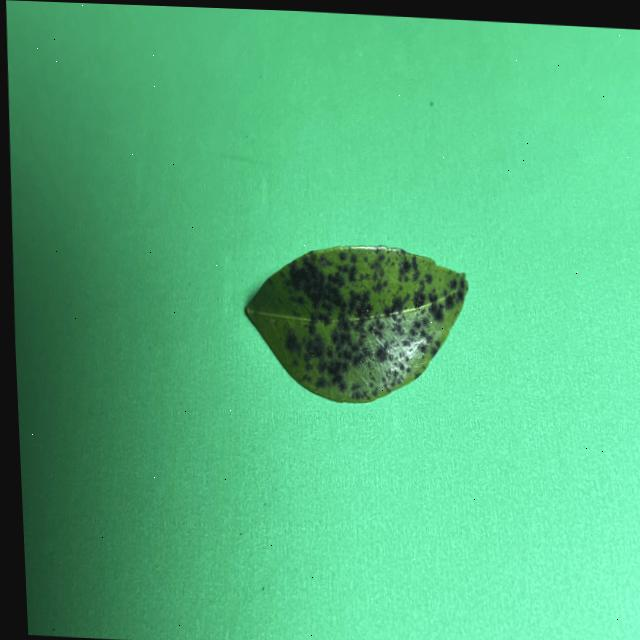sooty_mold: (246, 246, 468, 402)
